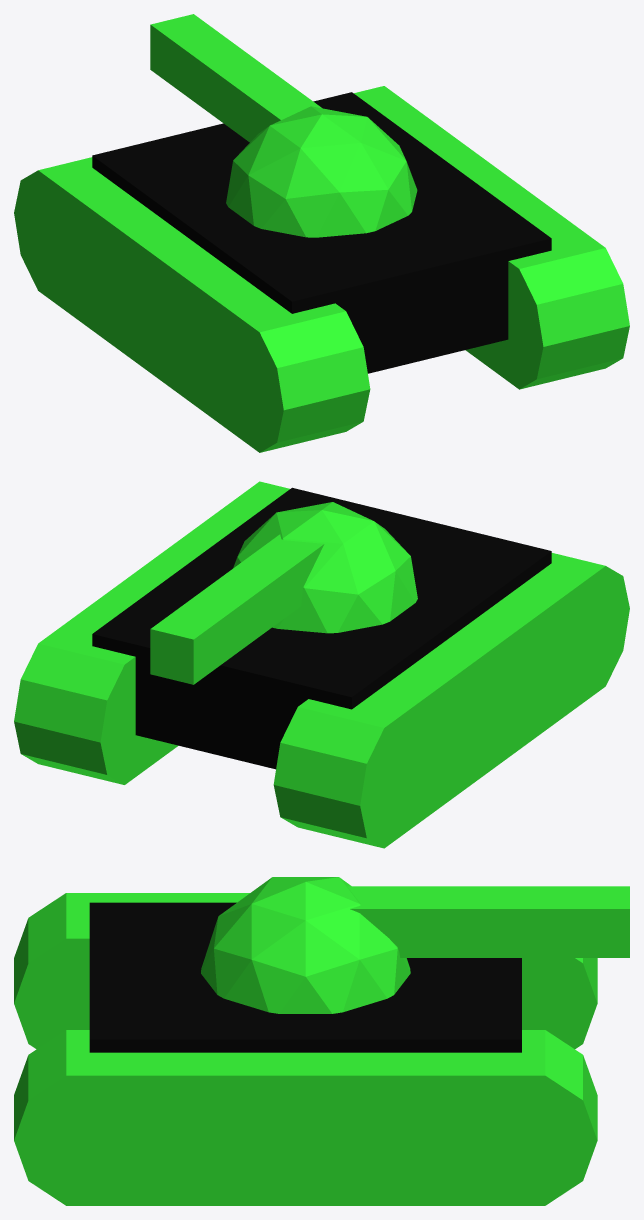
The model's file is unit.fbx.
The picture shows the model from 3 angles, top to bottom: view 1: azimuth 30°, elevation 25°; view 2: azimuth 150°, elevation 25°; view 3: azimuth 270°, elevation 25°; orthographic projection. The views are drawn at different scales.
Parts seen in each view (by area): view 1: Cube; view 2: Cube; view 3: Cube.
Boxes of the visible parts, x1,y1,x2,y2 form: Cube: (14,14,629,452); Cube: (14,481,629,848); Cube: (14,877,629,1205).
Size of the model in its own units: 4 by 2.38 by 5.7.
1 material, 1 textured.
